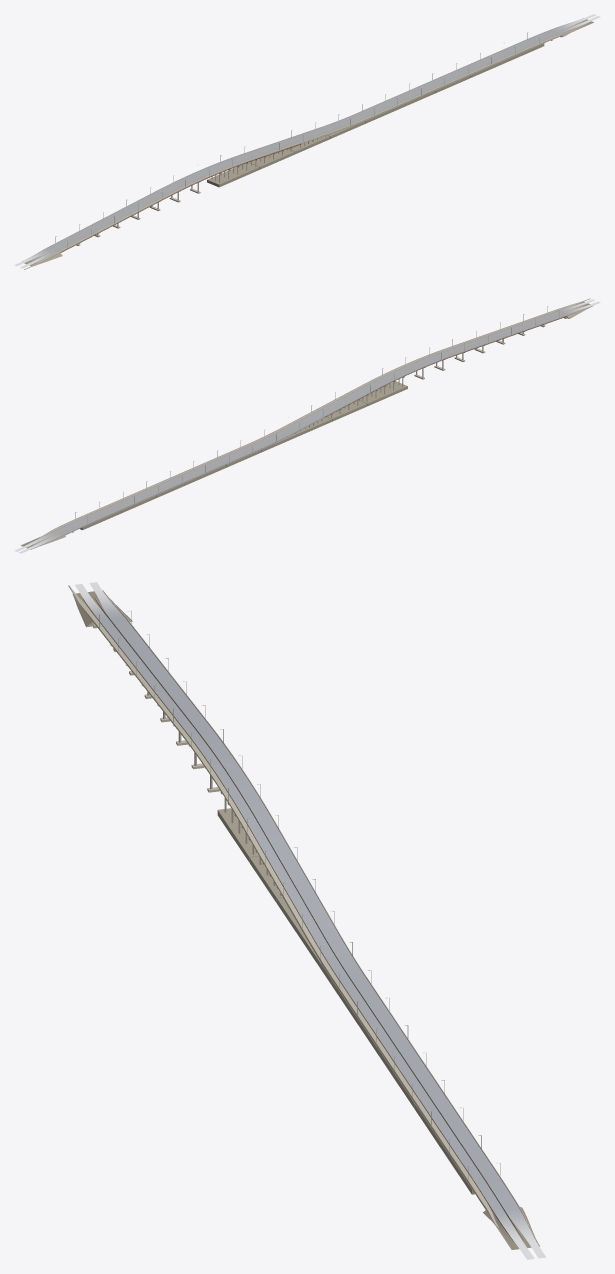
File: w-r-bennett-bridge-far.glb
3 renders of one model, top to bottom at view 1: azimuth 30°, elevation 25°; view 2: azimuth 210°, elevation 25°; view 3: azimuth 270°, elevation 25°, orthographic. The views are drawn at different scales.
Parts seen in each view (by area): view 1: w-r-bennett-bridge-0-asphalt, w-r-bennett-bridge-0-concrete, w-r-bennett-bridge-0-pontoon; view 2: w-r-bennett-bridge-0-asphalt, w-r-bennett-bridge-0-concrete, w-r-bennett-bridge-0-pontoon; view 3: w-r-bennett-bridge-0-asphalt, w-r-bennett-bridge-0-concrete, w-r-bennett-bridge-0-pontoon, w-r-bennett-bridge-0-fill.
Part boxes in pixels (x1,y1,x2,y2): w-r-bennett-bridge-0-asphalt: [14, 14, 600, 268]; w-r-bennett-bridge-0-concrete: [24, 20, 585, 269]; w-r-bennett-bridge-0-pontoon: [207, 43, 544, 187]; w-r-bennett-bridge-0-asphalt: [14, 299, 600, 553]; w-r-bennett-bridge-0-concrete: [29, 298, 590, 547]; w-r-bennett-bridge-0-pontoon: [80, 381, 407, 530]; w-r-bennett-bridge-0-asphalt: [75, 582, 546, 1259]; w-r-bennett-bridge-0-concrete: [68, 585, 535, 1241]; w-r-bennett-bridge-0-pontoon: [217, 808, 474, 1194]; w-r-bennett-bridge-0-fill: [72, 590, 539, 1249].
Size of the model in its own units: 1186 by 36.75 by 354.
